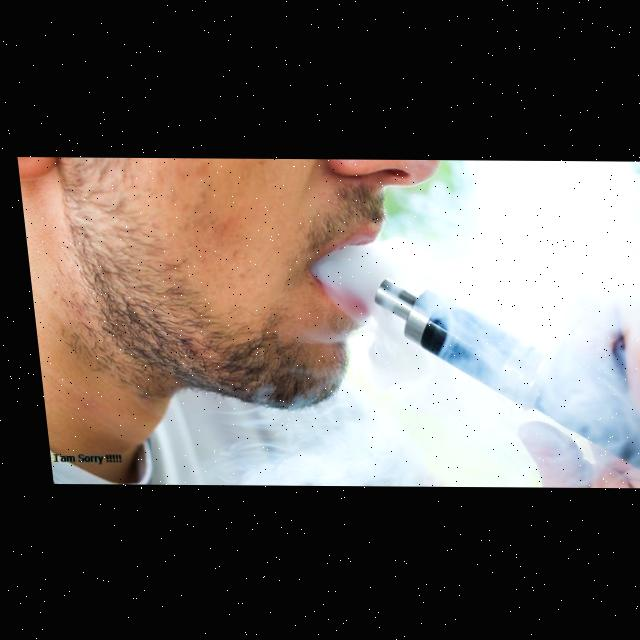vape: (366, 278, 640, 487)
